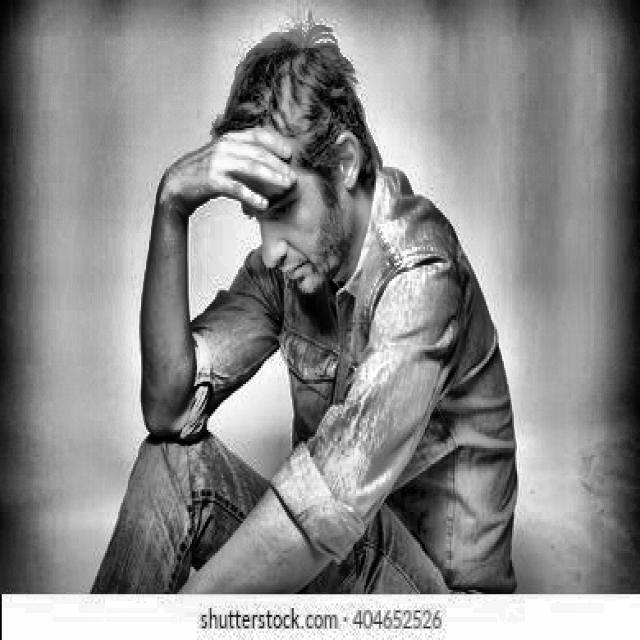sad: (210, 20, 393, 321)
